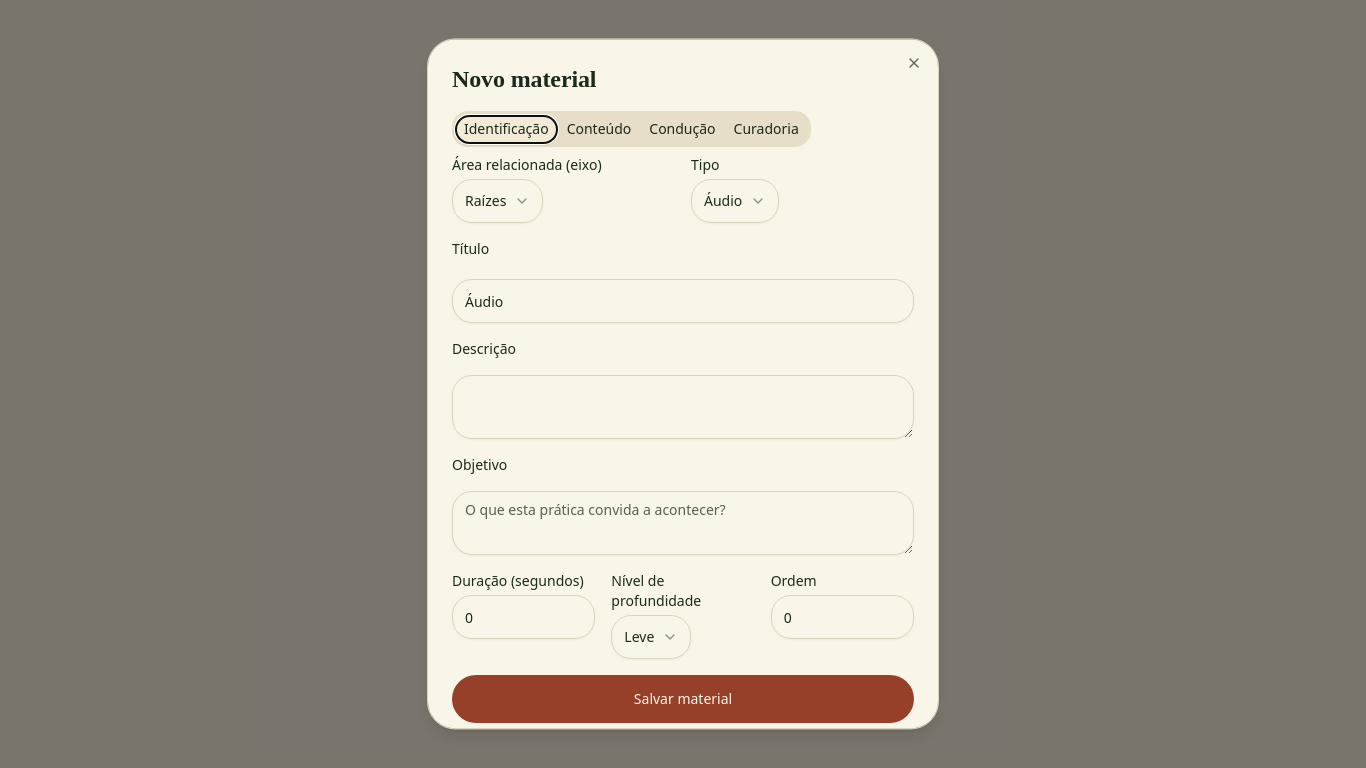
ConteudoFormDialog › mostra o upload de mídia apenas para tipos com arquivo
The width and height of the screenshot is (1366, 768).
Later steps or results of the test are not shown.
Click the tab "Conteúdo" at (599, 129), box [558, 115, 640, 144]
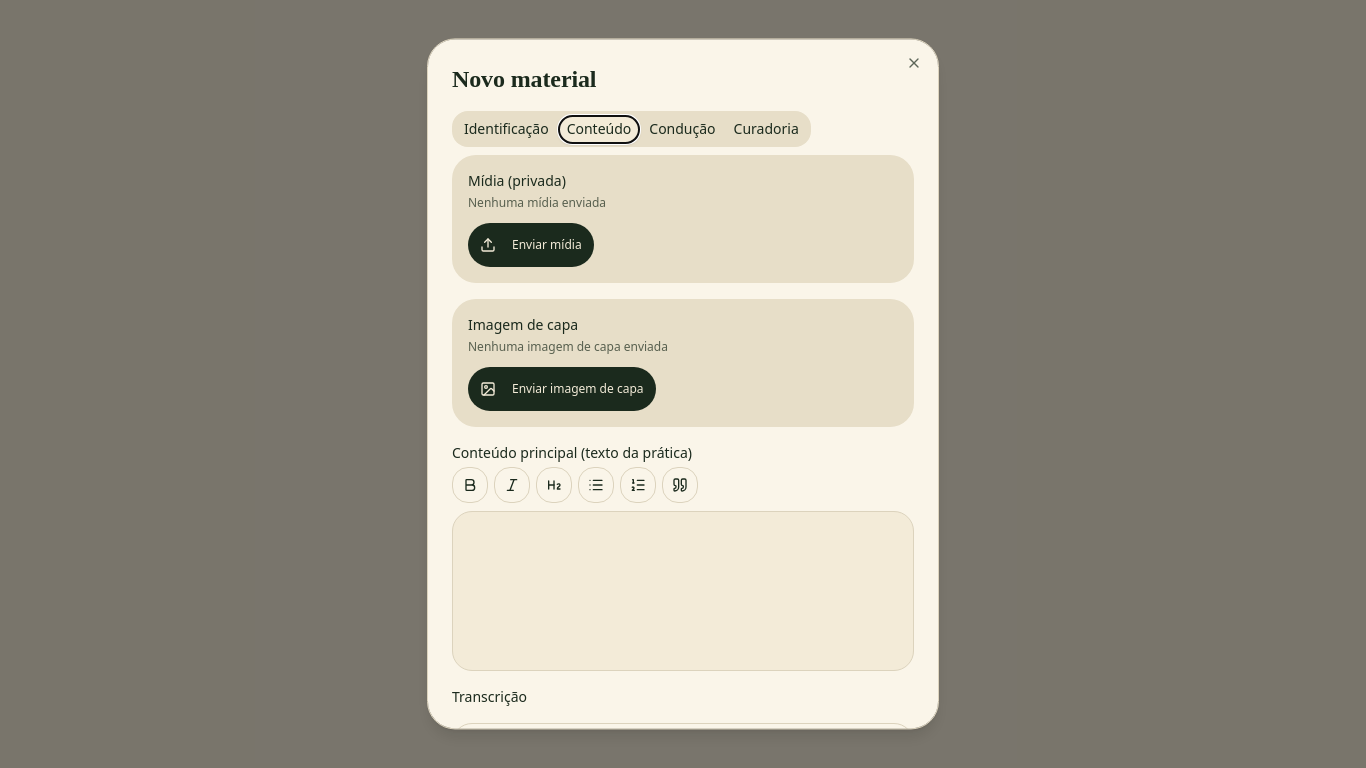
Expected: the element named "Escolher mídia" is shown, [468, 223, 594, 267]
